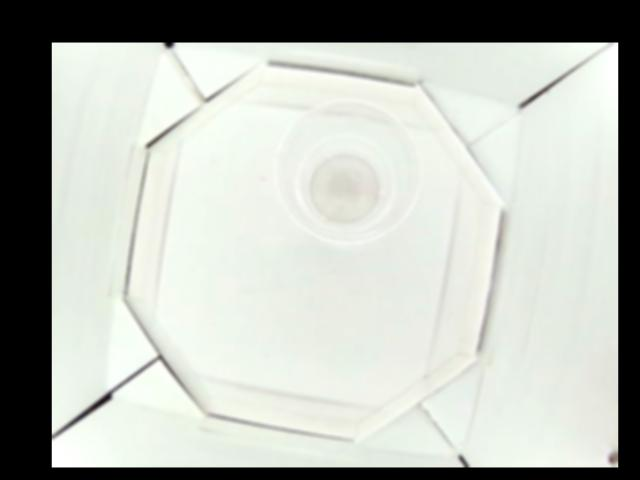Cup: (273, 99, 421, 247)
